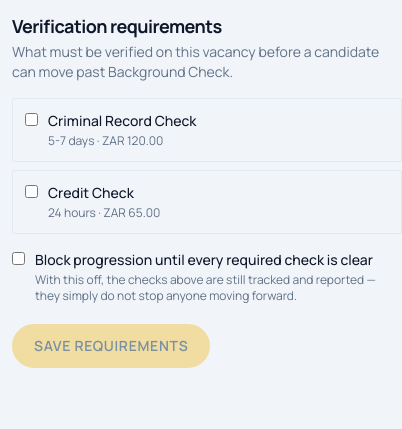
Test: will not let you enforce an empty list
Expected: the checkbox labelled "Criminal Record Check" is shown, [25, 113, 38, 126]
Step 1. Click the checkbox labelled "Block progression until every required check is clear" → (18, 258), box [12, 252, 25, 265]
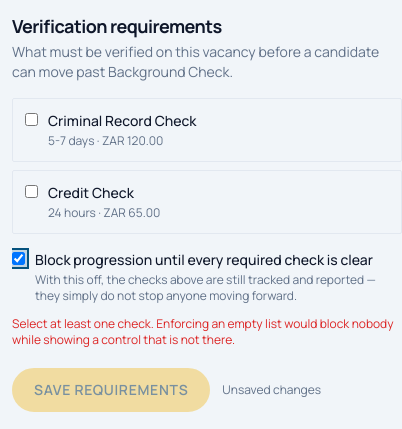
Expected: the button "Save requirements" is disabled, [12, 368, 210, 412]
Expected: the text "Select at least one check" is shown, [12, 315, 394, 348]
